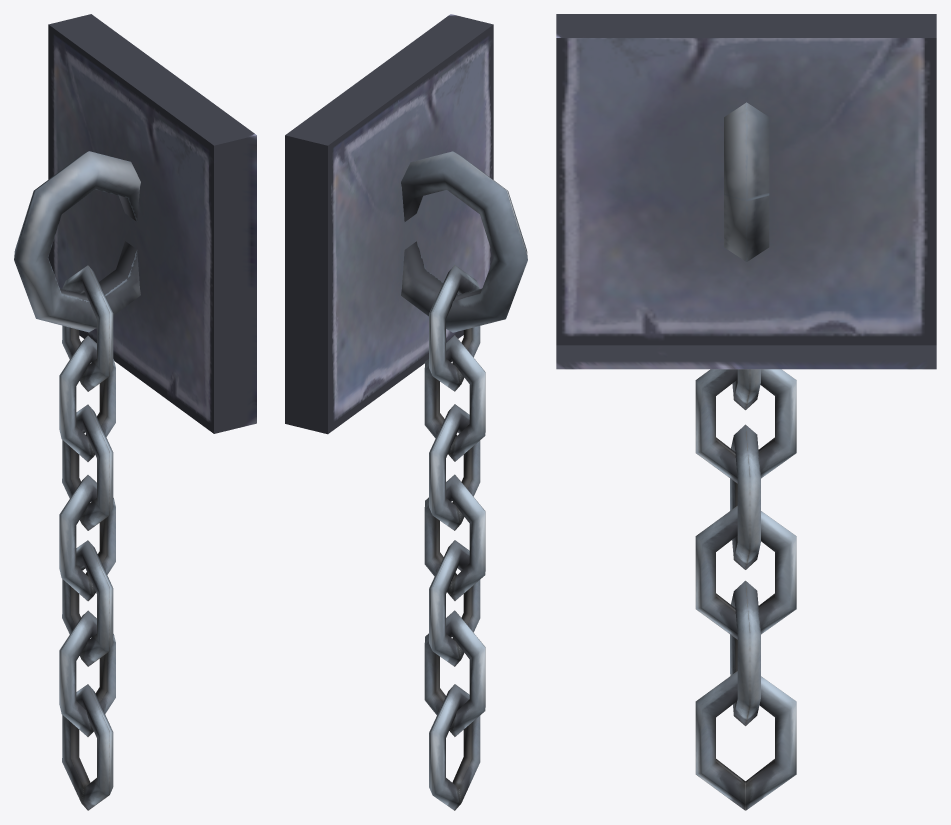
File: deco_shackles2.fbx
The picture shows the model from 3 angles, left to right: view 1: azimuth 30°, elevation 25°; view 2: azimuth 150°, elevation 25°; view 3: azimuth 270°, elevation 25°; orthographic projection. The views are drawn at different scales.
Parts seen in each view (by area): view 1: Box023; view 2: Box023; view 3: Box023.
Part boxes in pixels (bbox=[...]): Box023: bbox=[14, 14, 256, 810]; Box023: bbox=[285, 14, 527, 810]; Box023: bbox=[556, 14, 936, 810].
Size of the model in its own units: 17.68 by 75.46 by 31.68.
